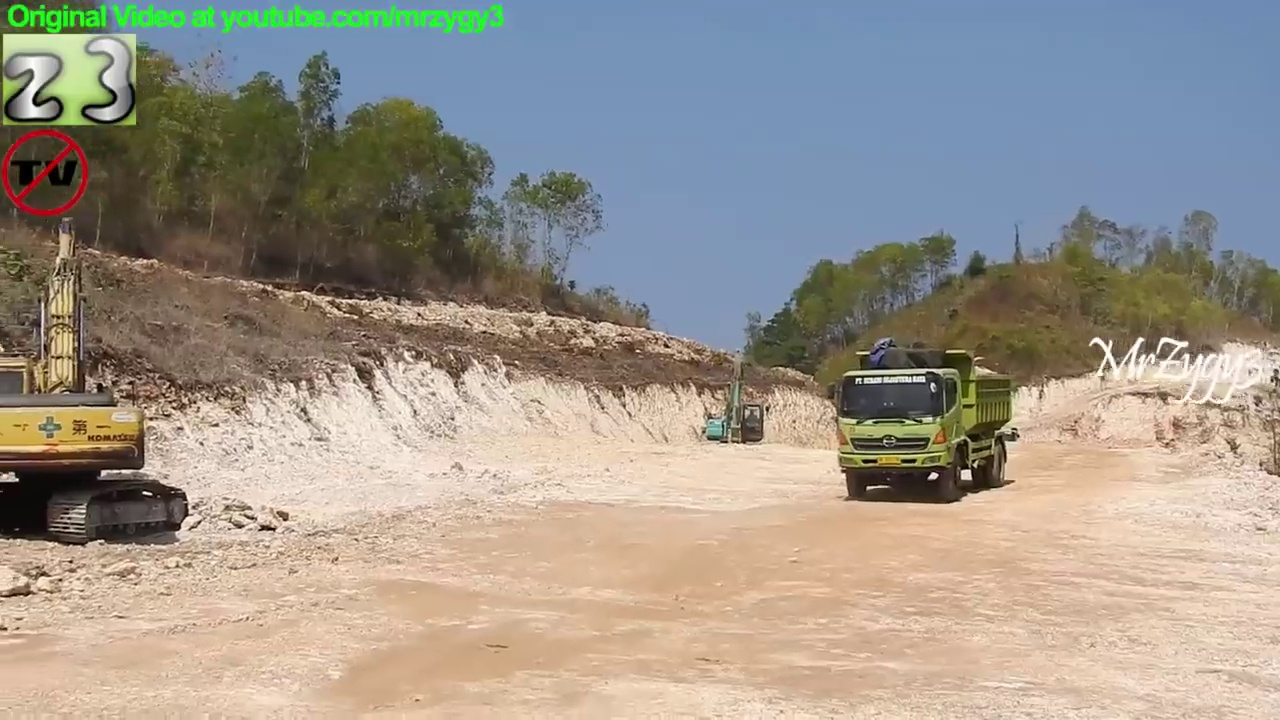excavator: (1, 205, 195, 552), (699, 348, 775, 462)
truck: (823, 345, 1017, 506)
